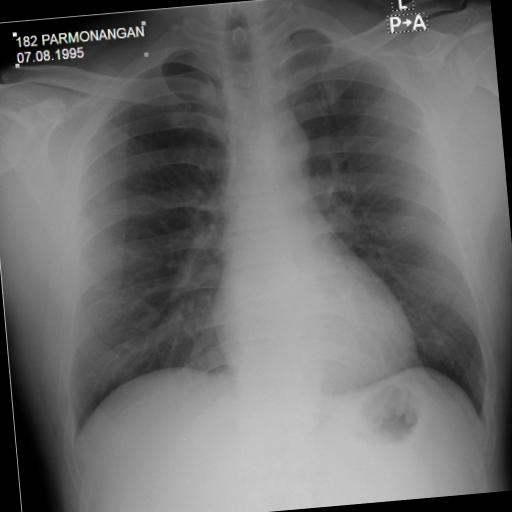normal: (25, 2, 505, 472)
